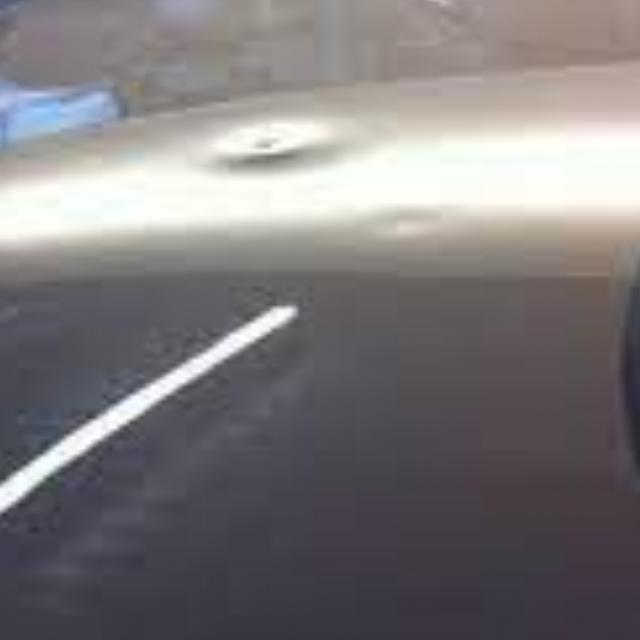dents: (202, 109, 352, 200), (377, 198, 450, 246)
